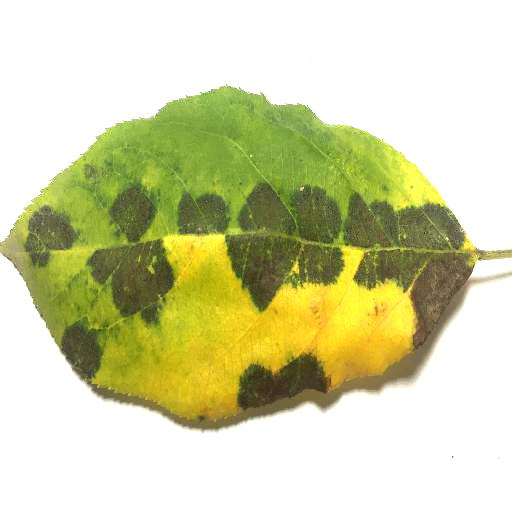Brown_Spot: (398, 251, 456, 347), (241, 361, 331, 401), (115, 262, 176, 321), (354, 208, 400, 285), (238, 253, 288, 316), (60, 324, 104, 375)
